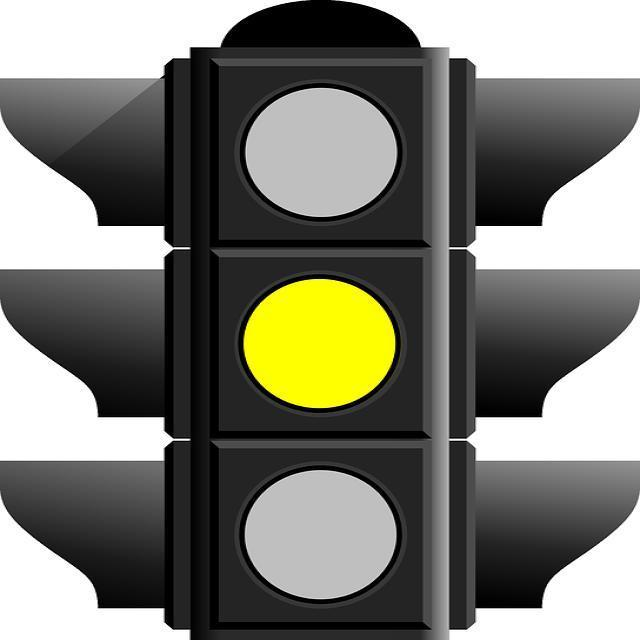yellow_light: (165, 0, 472, 638)
